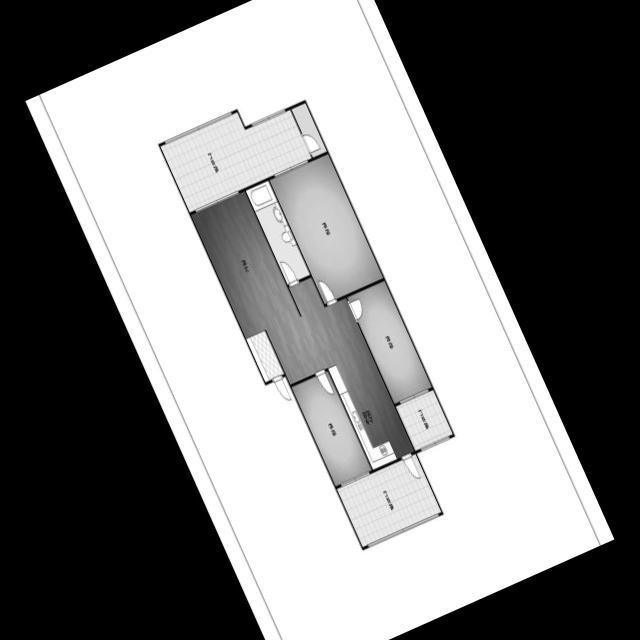background: (25, 0, 615, 640)
space_balconi: (160, 109, 312, 212), (337, 453, 441, 546), (396, 389, 453, 450)
space_bedroom: (269, 153, 383, 303), (347, 280, 432, 403), (291, 370, 372, 486)
space_front: (246, 330, 284, 382)
space_kitchen: (328, 349, 414, 469)
space_living_room: (191, 191, 369, 384)
space_other: (291, 102, 327, 157)
